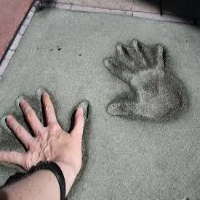ring: (3, 116, 36, 150)
